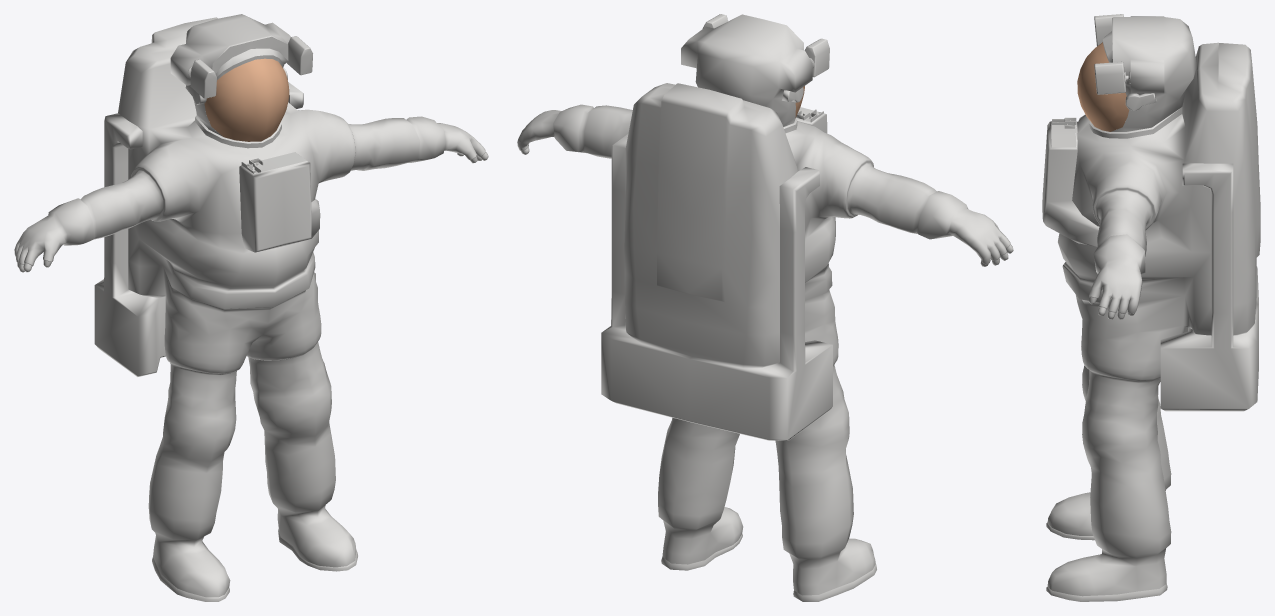
Rendered from astronaut.glb.
The picture shows the model from 3 angles, left to right: view 1: azimuth 30°, elevation 25°; view 2: azimuth 150°, elevation 25°; view 3: azimuth 270°, elevation 25°; orthographic projection. The views are drawn at different scales.
Parts seen in each view (by area): view 1: astronaut1; view 2: astronaut1; view 3: astronaut1.
Boxes of the visible parts, left/top/right/bottom form: astronaut1: left=14, top=14, right=488, bottom=601; astronaut1: left=517, top=14, right=1013, bottom=601; astronaut1: left=1042, top=14, right=1260, bottom=601.
Size of the model in its own units: 68.91 by 74.26 by 27.6.
